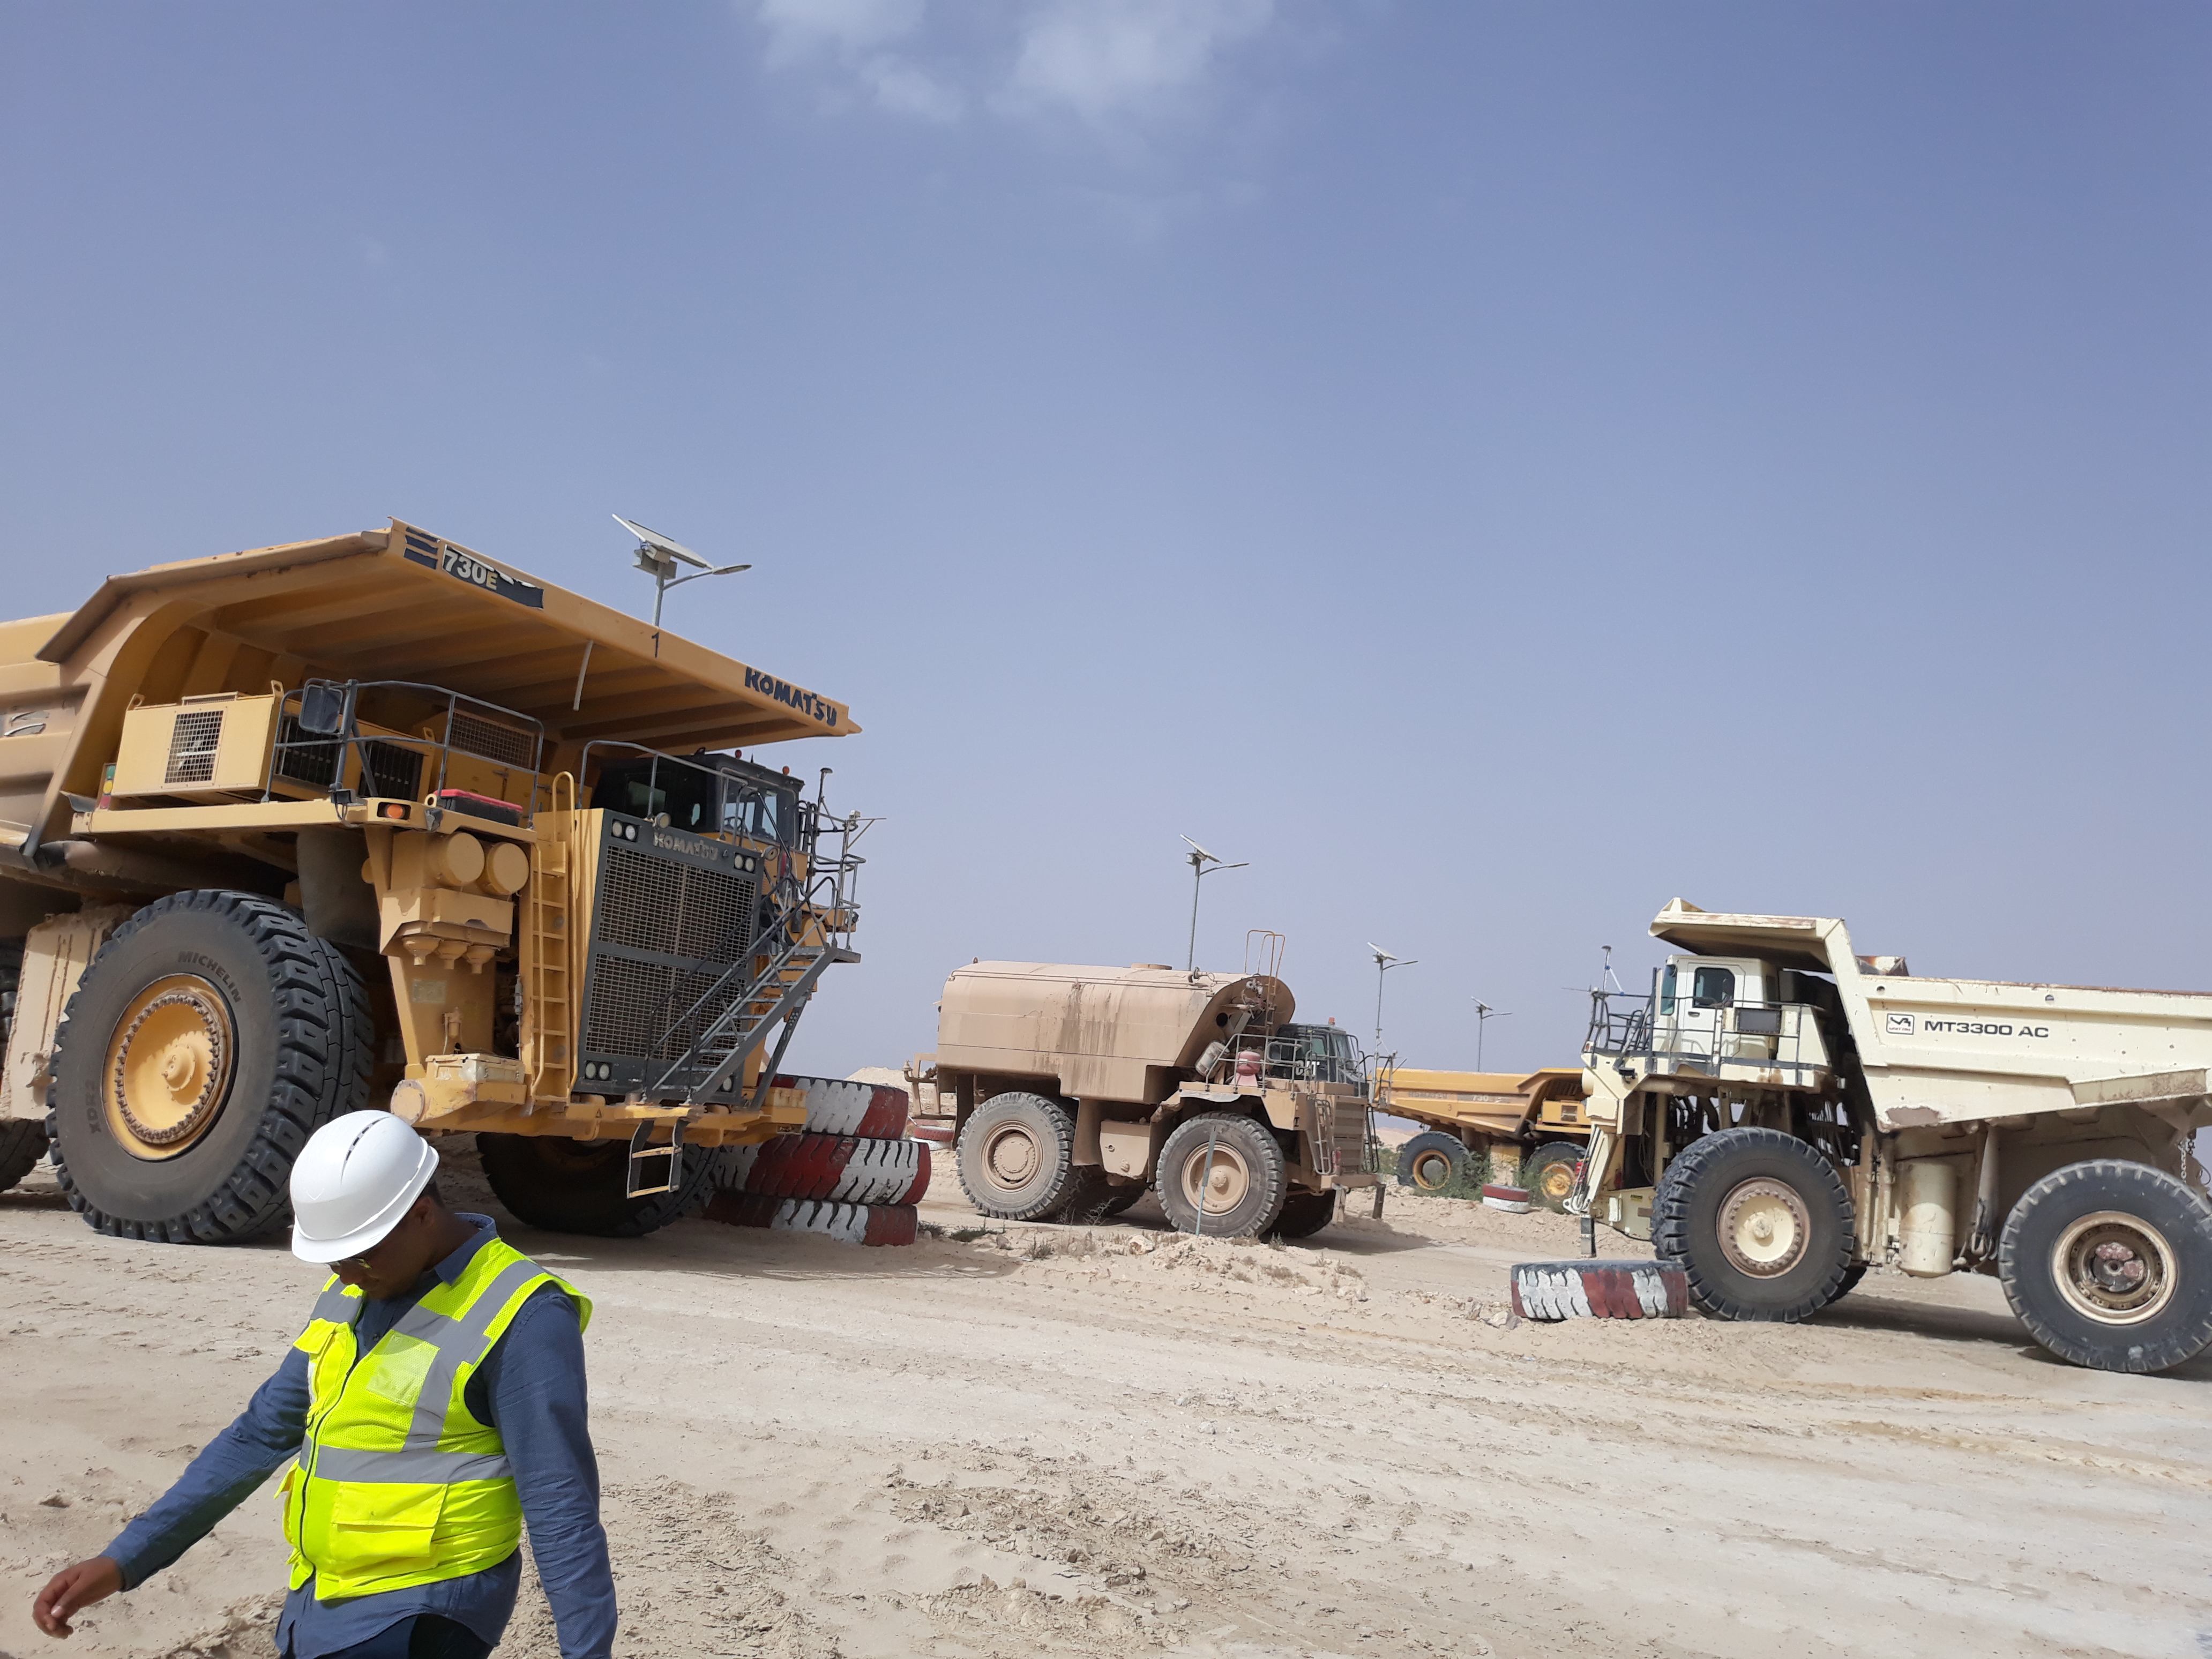camion: (1, 514, 879, 1274), (1588, 892, 2212, 1407), (1360, 1027, 1647, 1239)
person: (173, 1093, 621, 1659)
